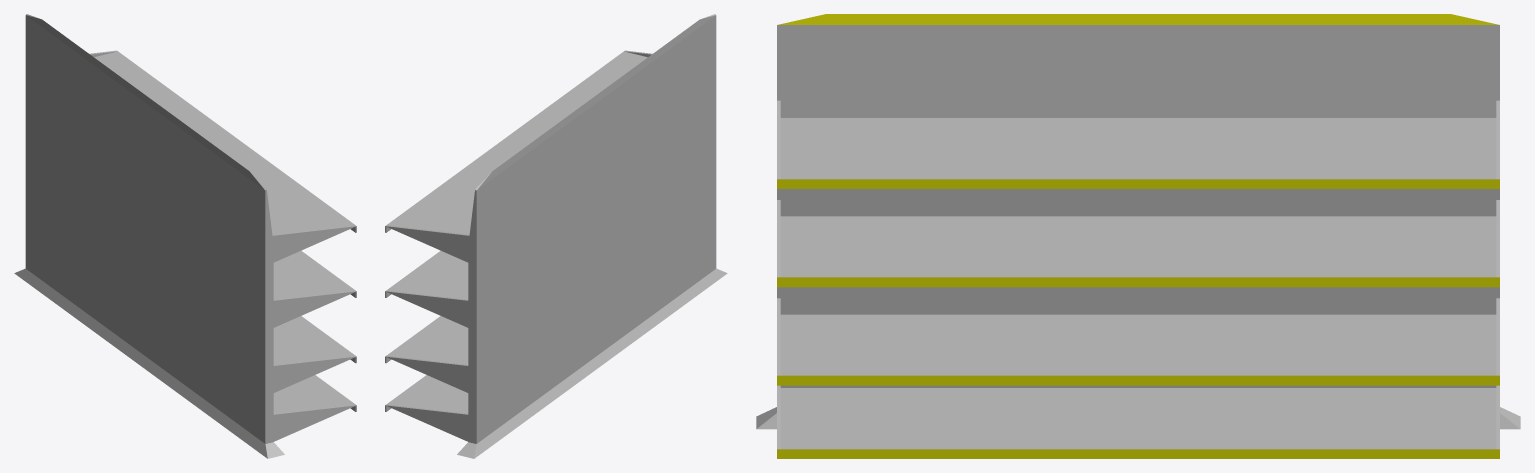
The model's file is shelf_long.glb.
3 views of the same model, side by side, from view 1: azimuth 30°, elevation 25°; view 2: azimuth 150°, elevation 25°; view 3: azimuth 270°, elevation 25° (orthographic). The views are drawn at different scales.
Visible parts, largest first — view 1: Shelf; view 2: Shelf; view 3: Shelf, Text.
Part boxes in pixels (left/top/right/bottom): Shelf: left=14, top=14, right=356, bottom=458; Shelf: left=385, top=14, right=727, bottom=458; Shelf: left=756, top=25, right=1520, bottom=449; Text: left=777, top=14, right=1499, bottom=458.
Bounding box in the file's own units: 2.31 × 6.2 × 10.57.
